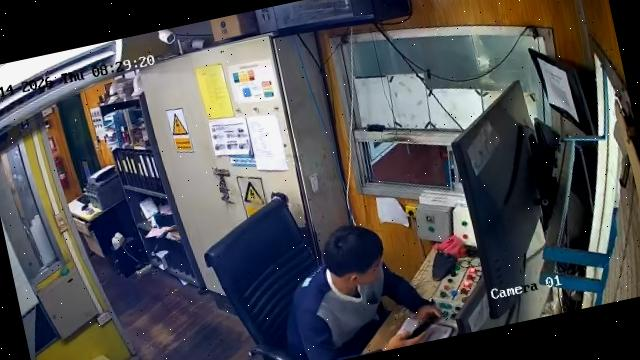Head: (319, 220, 390, 296)
People: (265, 208, 446, 360)
Phone: (410, 312, 438, 340)
